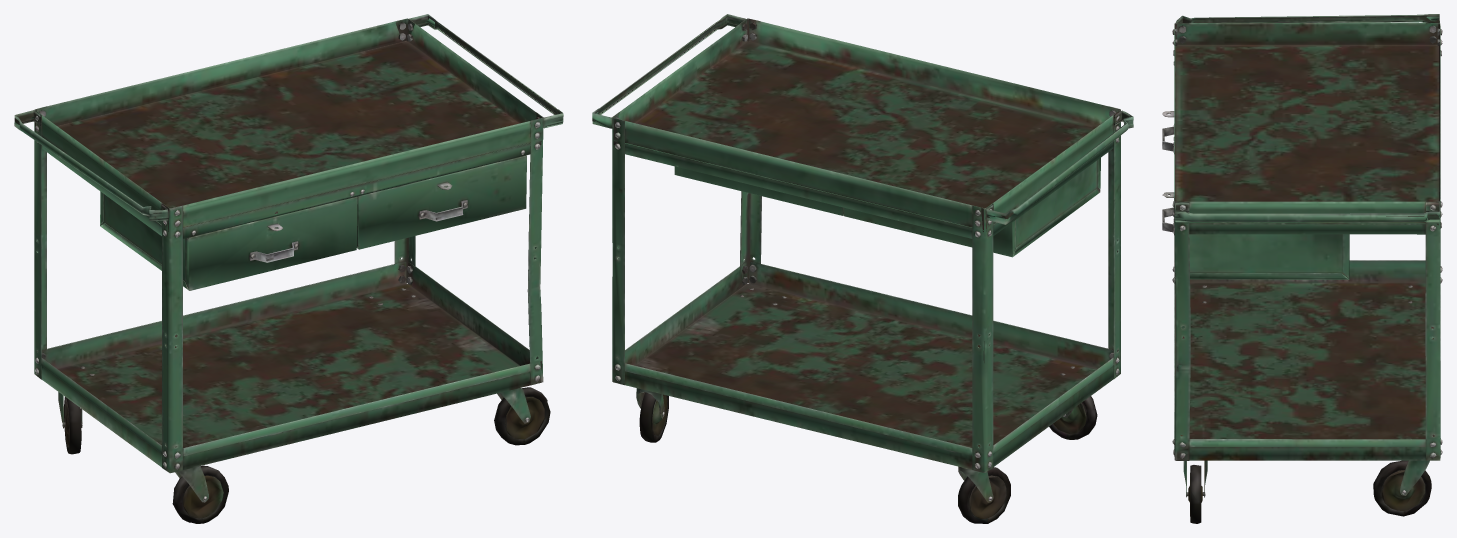
File: cart-tool-green.glb
The picture shows the model from 3 angles, left to right: view 1: azimuth 30°, elevation 25°; view 2: azimuth 150°, elevation 25°; view 3: azimuth 270°, elevation 25°; orthographic projection. The views are drawn at different scales.
Parts seen in each view (by area): view 1: tool_cart; view 2: tool_cart; view 3: tool_cart.
Boxes of the visible parts, <box> form: tool_cart: <box>14,14,563,523</box>; tool_cart: <box>592,14,1133,523</box>; tool_cart: <box>1162,14,1442,523</box>.
Bounding box in the file's own units: 1.27 × 0.9647 × 0.7522.
1 material, 1 textured.
